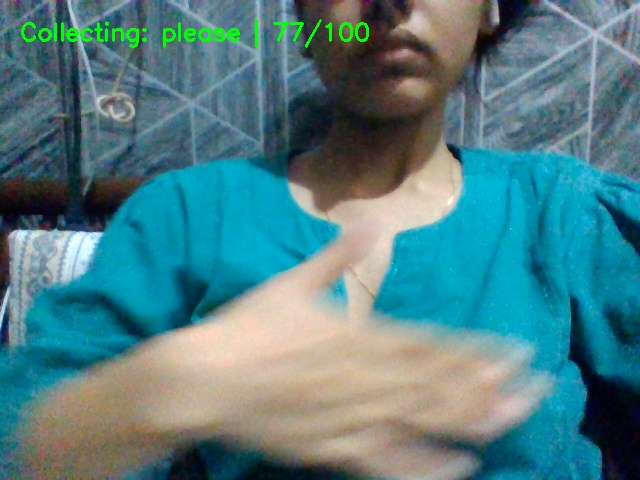please: (167, 217, 551, 480)
